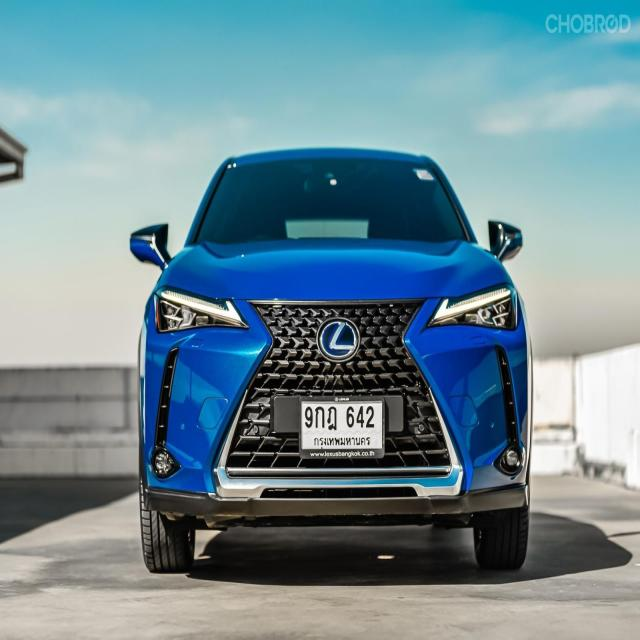license_plate: (298, 399, 386, 458)
